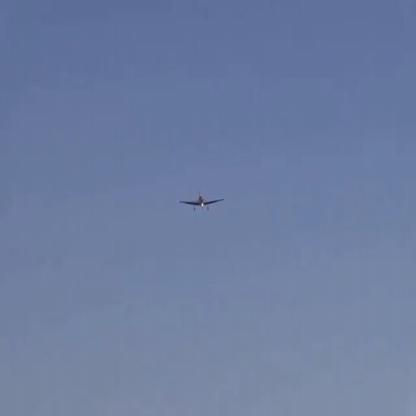CIV_Plane: (177, 194, 225, 210)
